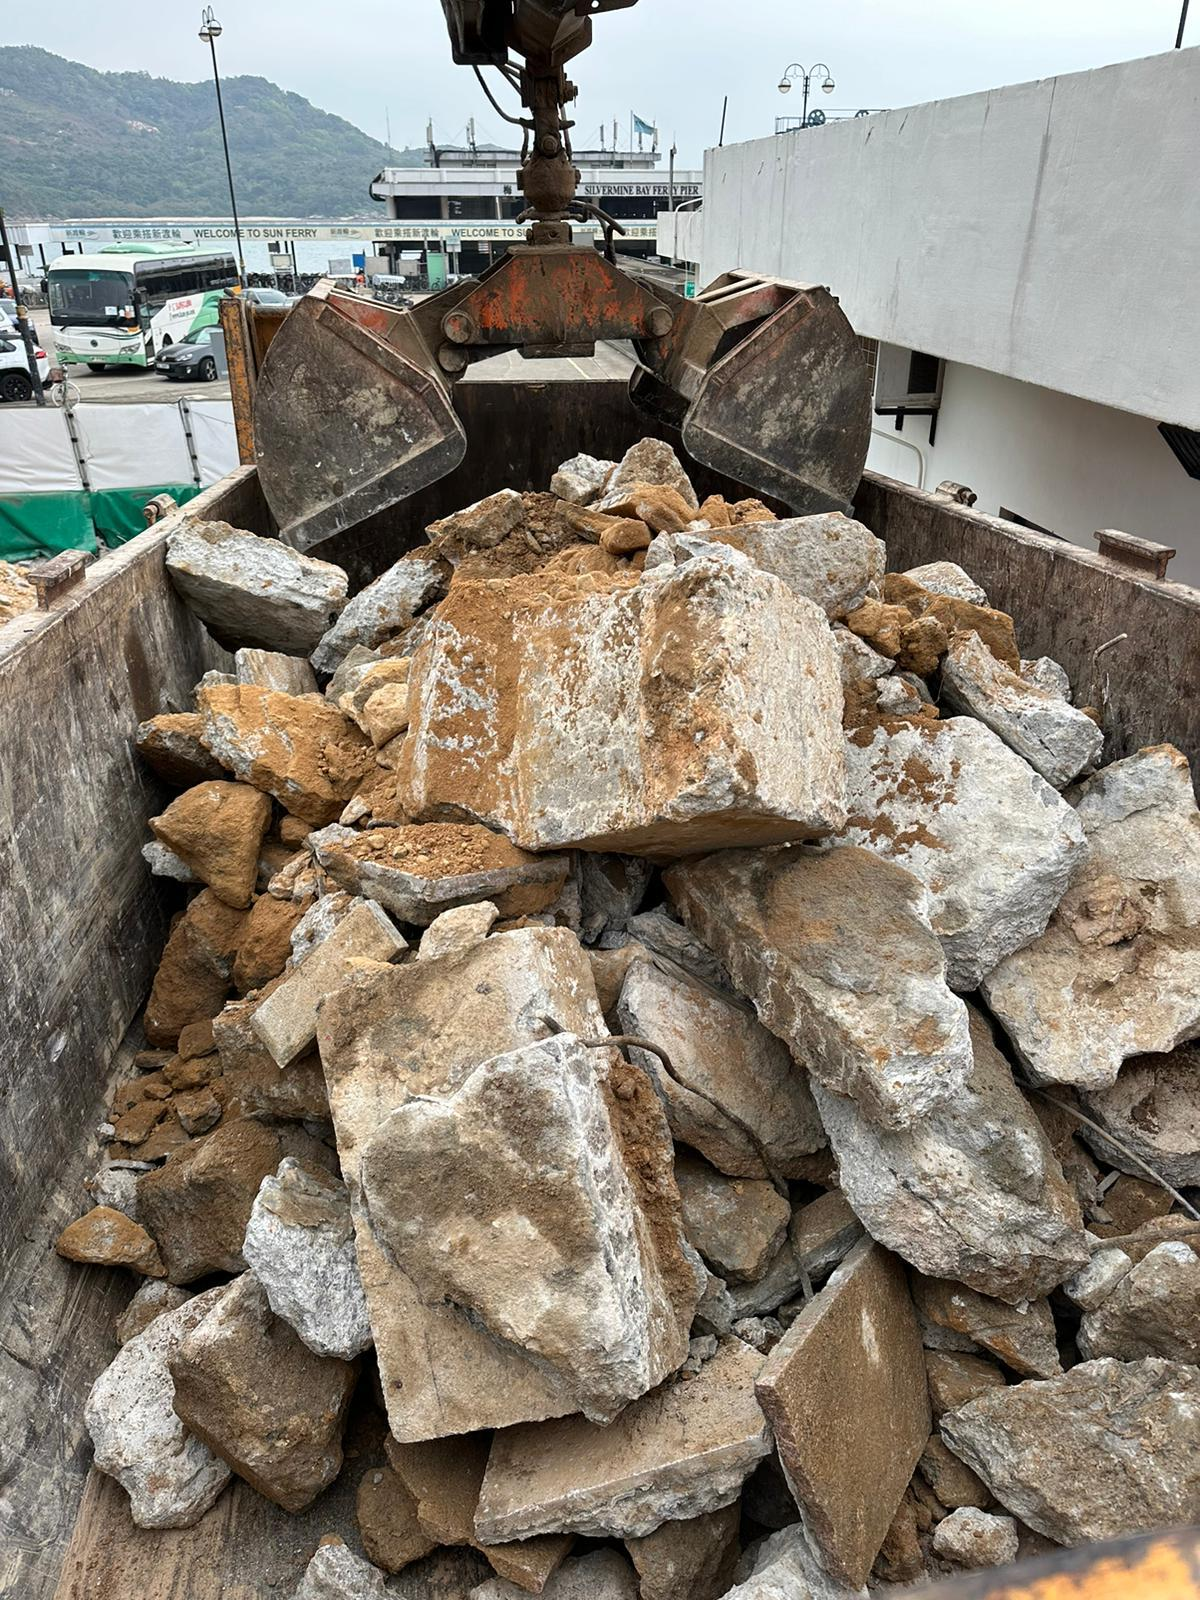dry: (97, 475, 1192, 1592)
